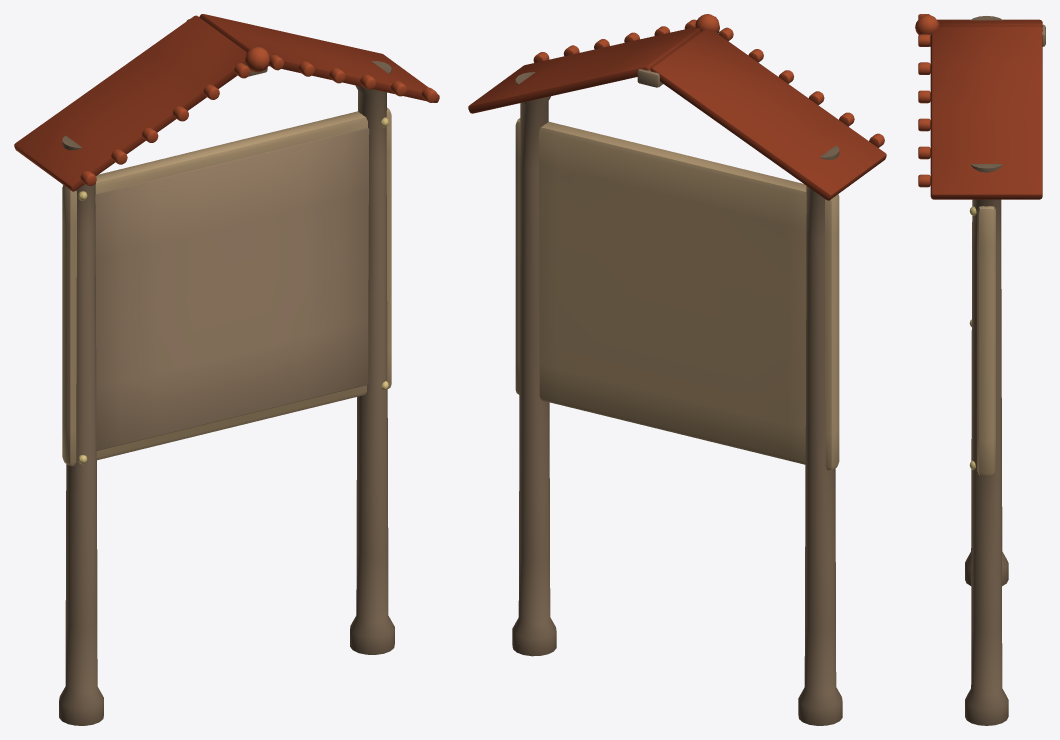
Rendered from obj_kit_lawboard.glb.
The picture shows the model from 3 angles, left to right: view 1: azimuth 30°, elevation 25°; view 2: azimuth 150°, elevation 25°; view 3: azimuth 270°, elevation 25°; orthographic projection. The views are drawn at different scales.
Parts seen in each view (by area): view 1: Cube.001, Cube.002, post.001, post, Cube, Cube.003; view 2: Cube, Cube.002, post.001, post, Cube.003; view 3: Cube.003, post.001, Cube, post, Cube.002, Sphere.004.
Boxes of the visible parts, <box> form: Cube.001: <box>95,127,369,450</box>; Cube.002: <box>14,15,246,191</box>; post.001: <box>350,61,394,654</box>; post: <box>59,135,103,725</box>; Cube: <box>62,107,391,465</box>; Cube.003: <box>199,14,439,102</box>; Cube: <box>515,118,839,470</box>; Cube.002: <box>650,29,886,200</box>; post.001: <box>512,72,556,656</box>; post: <box>798,145,842,725</box>; Cube.003: <box>468,27,700,113</box>; Cube.003: <box>930,26,1042,199</box>; post.001: <box>965,164,1008,725</box>; Cube: <box>977,206,995,476</box>; post: <box>965,16,1008,586</box>; Cube.002: <box>937,19,1042,27</box>; Sphere.004: <box>915,15,939,34</box>.
Size of the model in its own units: 1.32 by 2.24 by 0.42.
